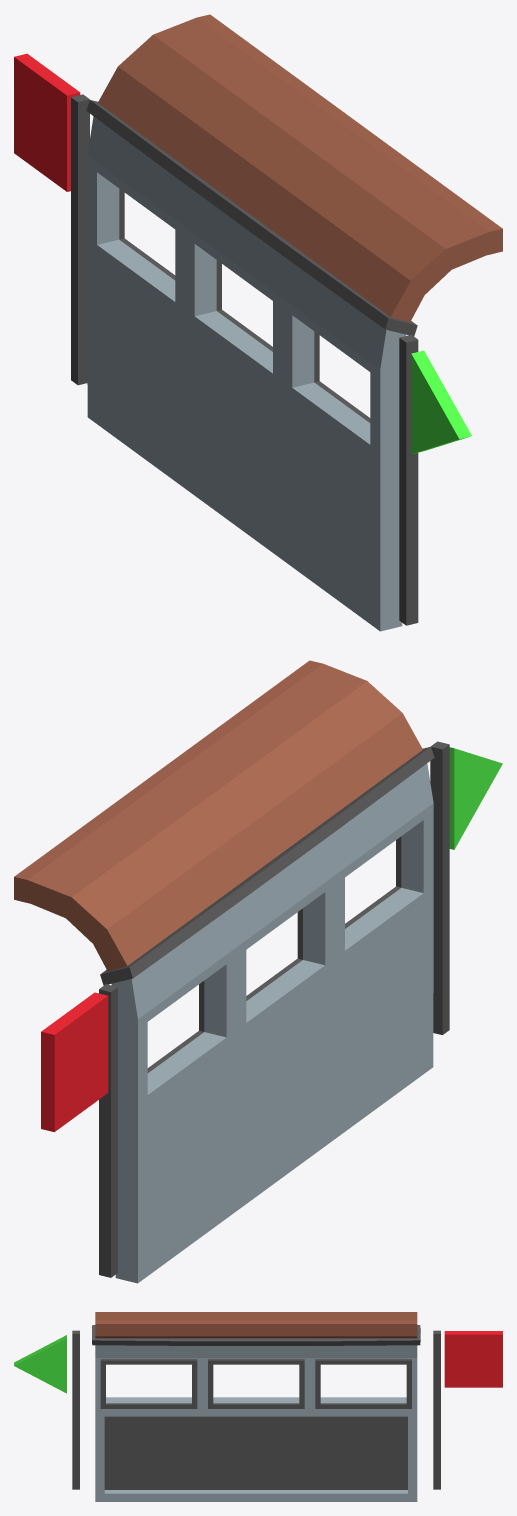
The model's file is station.fbx.
3 views of the same model, one above another, from view 1: azimuth 30°, elevation 25°; view 2: azimuth 150°, elevation 25°; view 3: azimuth 270°, elevation 25° (orthographic). The views are drawn at different scales.
Visible parts, largest first — view 1: Station, StopFlag, StartFlag; view 2: Station, StopFlag, StartFlag; view 3: Station, StopFlag, StartFlag.
Part boxes in pixels (box(x1,y1,x2,y2)): Station: box(86, 14, 502, 631); StopFlag: box(14, 53, 89, 385); StartFlag: box(399, 334, 471, 625); Station: box(14, 660, 434, 1283); StopFlag: box(41, 984, 117, 1277); StartFlag: box(430, 741, 502, 1034); Station: box(92, 1312, 420, 1501); StopFlag: box(433, 1330, 502, 1489); StartFlag: box(14, 1330, 79, 1489).
Bounding box in the file's own units: 199 × 577 × 1246.
